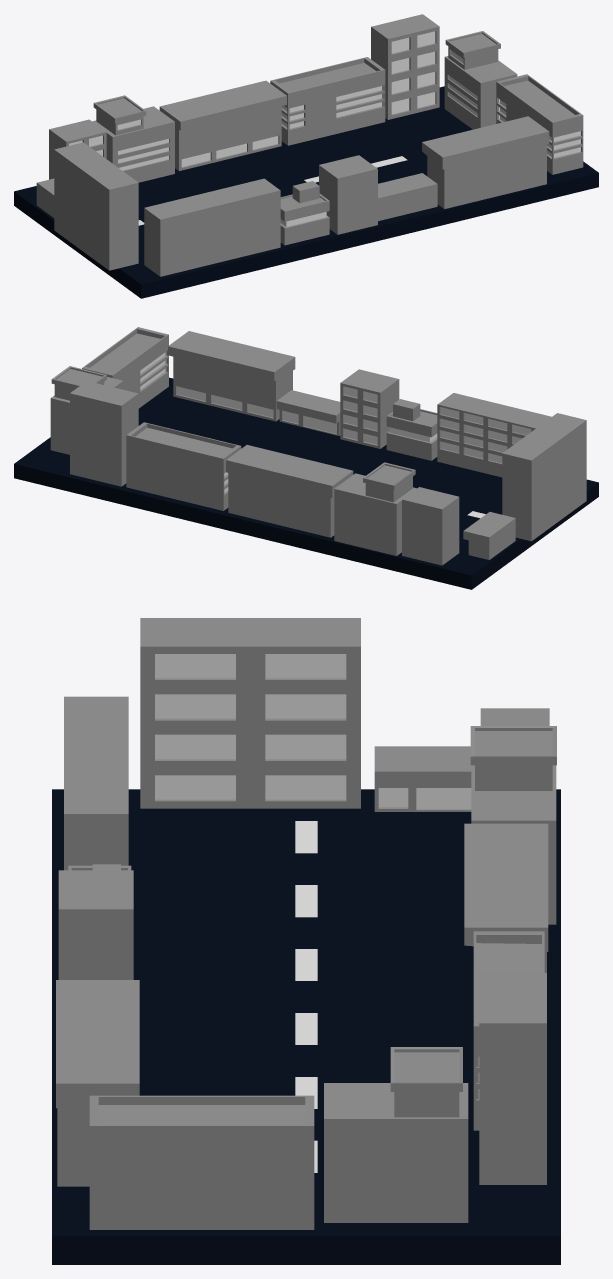
Rendered from EnvironmentModel.fbx.
The picture shows the model from 3 angles, top to bottom: view 1: azimuth 30°, elevation 25°; view 2: azimuth 150°, elevation 25°; view 3: azimuth 270°, elevation 25°; orthographic projection. The views are drawn at different scales.
Parts seen in each view (by area): view 1: Box001; view 2: Box001; view 3: Box001.
Boxes of the visible parts, <box> form: Box001: <box>14,14,598,298</box>; Box001: <box>14,327,598,589</box>; Box001: <box>52,618,560,1264</box>.
Size of the model in its own units: 137 by 64.69 by 26.71.
